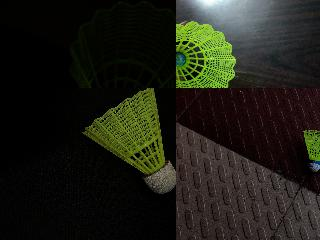shuttlecock: (81, 88, 175, 195), (70, 0, 175, 87), (176, 21, 236, 87), (303, 129, 319, 172)
